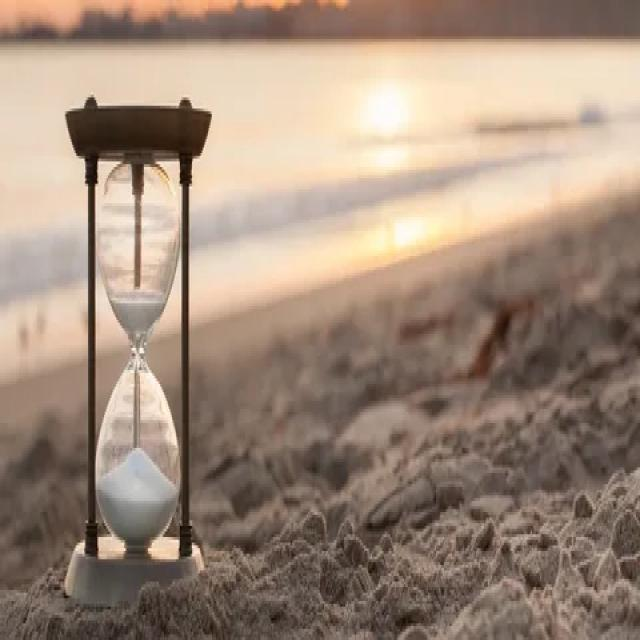clock: (54, 89, 215, 600)
